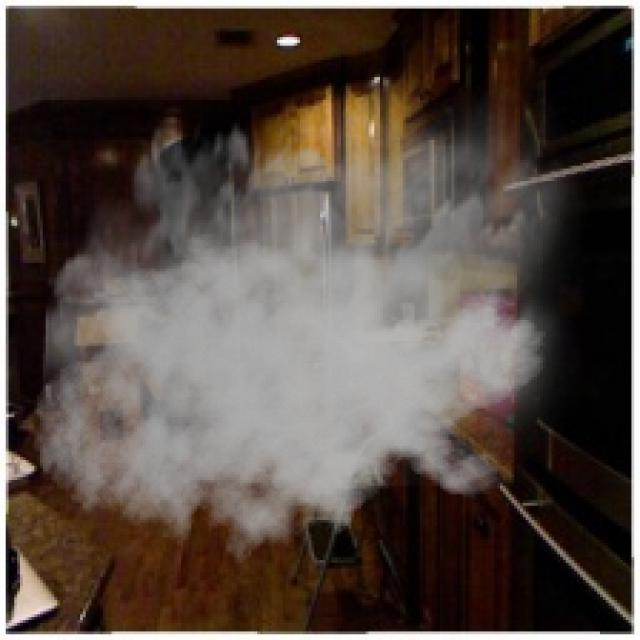Smoke: (31, 65, 598, 580)
